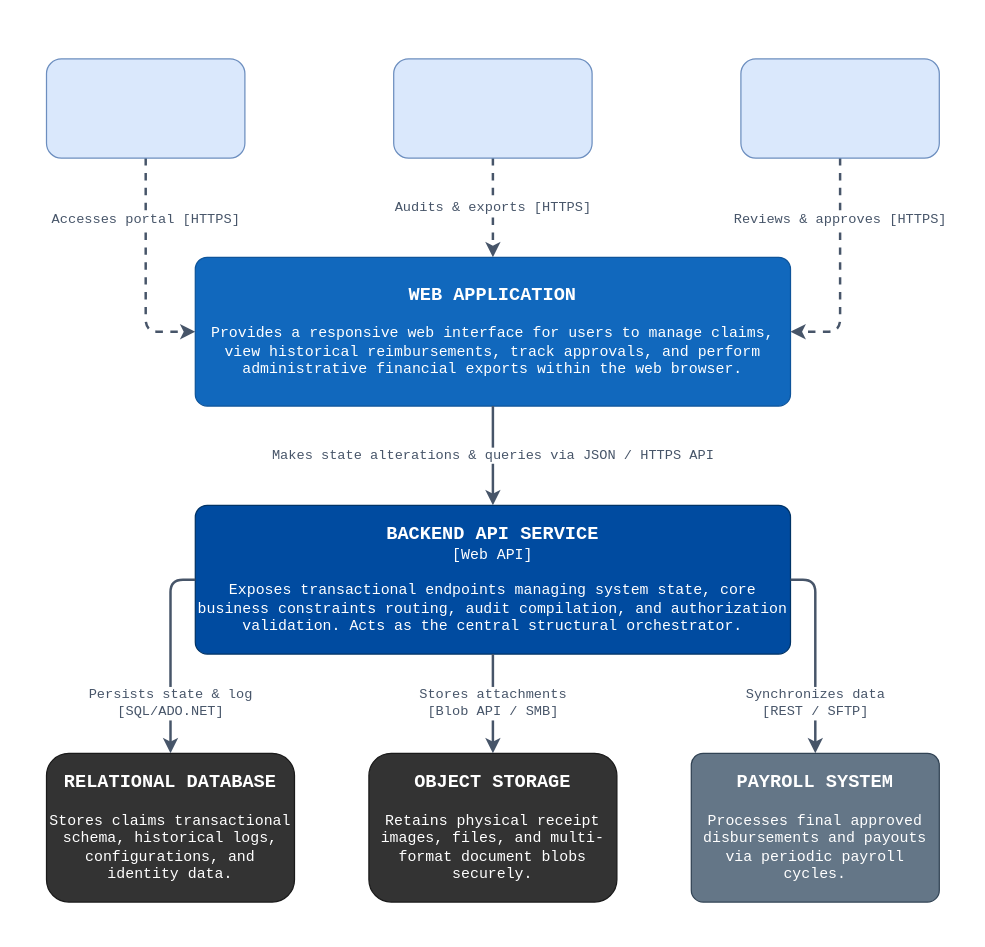
This 985x947 diagram has some shape labels left out. The shapes that lost their labels are listed below. From the top down, each one's box as (x1, y1, x2, y2) in pixels, then its label:
(45, 58, 245, 158): STAFF MEMBER Submits expense claims and uploads reciepts
(392, 58, 592, 158): FINANCE TEAM Audits approved claims and exports to payroll
(740, 58, 939, 158): LINE MANAGER Reviews and approves / rejects staff claims
